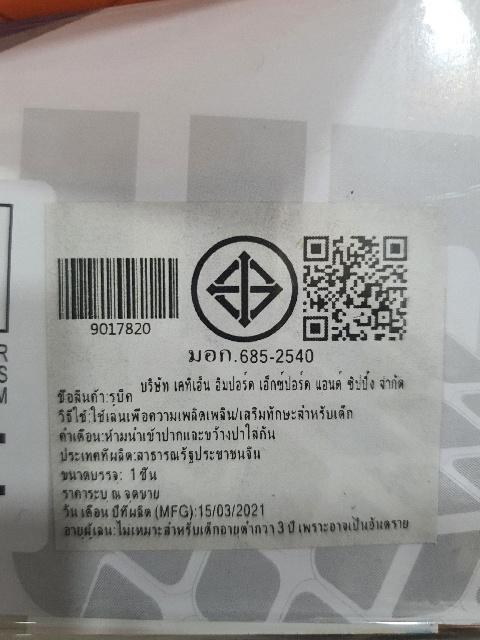Barcode: (49, 245, 187, 338)
